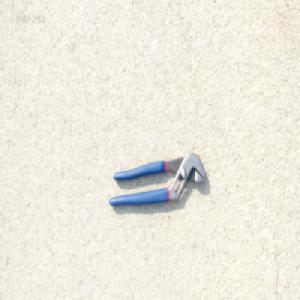Pliers: (107, 151, 206, 207)
